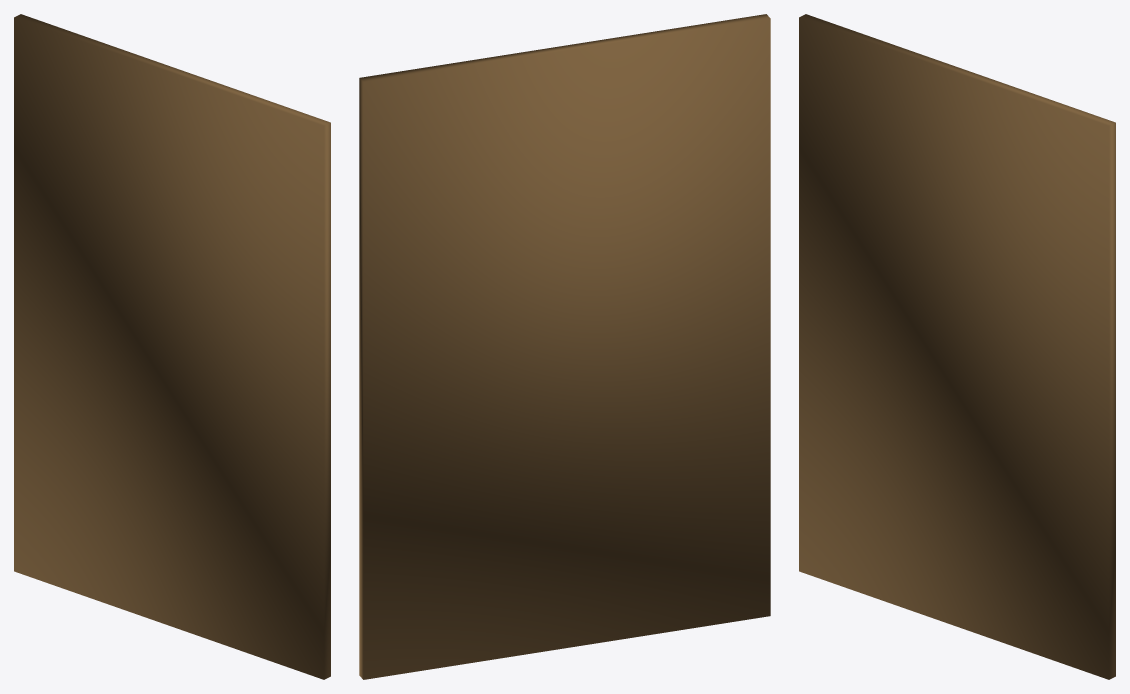
File: Street Advertisement 5.fbx
The picture shows the model from 3 angles, left to right: view 1: azimuth 90°, elevation 25°; view 2: azimuth 150°, elevation 25°; view 3: azimuth 270°, elevation 25°; orthographic projection. The views are drawn at different scales.
Visible parts, largest first — view 1: Street Advertisement 5; view 2: Street Advertisement 5; view 3: Street Advertisement 5.
Boxes of the visible parts, <box> form: Street Advertisement 5: <box>14,14,330,679</box>; Street Advertisement 5: <box>359,14,770,679</box>; Street Advertisement 5: <box>799,14,1115,679</box>.
Size of the model in its own units: 73.69 by 88.1 by 170.
